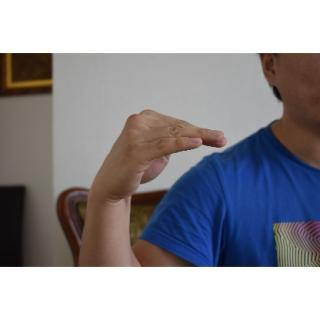HAA: (88, 106, 232, 204)
